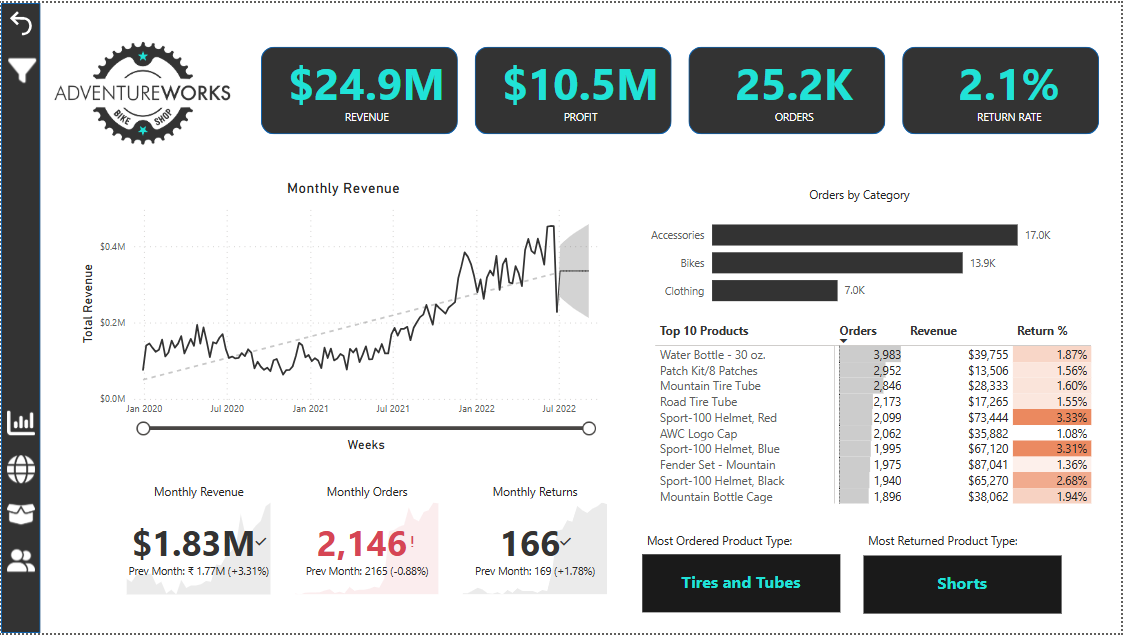

The dashboard page shown, as its layout file describes it:
{"tool":"powerbi","page":{"name":" Exec Dashboard ","canvas":[1280,720],"ordinal":0},"visuals":[{"type":"card","fields":{"Values":["Measure Table.Total Revenue"]},"box":[290,22.5,256.2,150],"z":0,"group":"g2"},{"type":"image","title":"Adv Logo","box":[33.8,32.5,256.2,140],"z":0},{"type":"group","id":"g1","title":"KPI's Backgrounds","box":[297.8,49.5,958.5,100.5],"z":0,"group":"g3"},{"type":"shape","box":[297.8,49.5,225,100],"z":0,"group":"g1"},{"type":"shape","title":"Left Nav Background","box":[0,0,45,720],"z":1000},{"type":"group","id":"g2","title":"KPI's Values","box":[290,22.5,990,150],"z":1000,"group":"g3"},{"type":"card","fields":{"Values":["Measure Table.Total profit"]},"box":[534.6,22.5,256.2,150],"z":1000,"group":"g2"},{"type":"shape","box":[542.3,49.5,225,100],"z":1000,"group":"g1"},{"type":"group","id":"g3","title":"KPI's","box":[290,22.5,990,150],"z":2000},{"type":"card","fields":{"Values":["Measure Table.Return Rate"]},"box":[1023.8,22.5,256.2,150],"z":2000,"group":"g2"},{"type":"shape","box":[786.8,49.5,225,100],"z":2000,"group":"g1"},{"type":"card","fields":{"Values":["Measure Table.Total Orders"]},"box":[779.2,22.5,256.2,150],"z":3000,"group":"g2"},{"type":"shape","box":[1031.3,50,225,100],"z":3000,"group":"g1"},{"type":"lineChart","title":"Monthly Revenue","fields":{"Y":["Measure Table.Total Revenue"],"Category":["Calendar Lookup.week s"]},"box":[86.2,201.2,611.2,316.2],"z":3000},{"type":"kpi","title":"Monthly Revenue","fields":{"Indicator":["Measure Table.Total Revenue"],"TrendLine":["Calendar Lookup.Start of Month"],"Goal":["Measure Table.Previous month Revenue"]},"box":[138.7,548.7,174.9,132.7],"z":4000},{"type":"kpi","title":"Monthly Orders","fields":{"TrendLine":["Calendar Lookup.Start of Month"],"Indicator":["Measure Table.Total Orders"],"Goal":["Measure Table.Previous Months orders"]},"box":[331.2,548.7,173.8,132.5],"z":5000},{"type":"kpi","title":"Monthly Returns","fields":{"TrendLine":["Calendar Lookup.Start of Month"],"Indicator":["Measure Table.Total Returns"],"Goal":["Measure Table.Previous Month Returns"]},"box":[522.5,548.7,175,132.5],"z":6000},{"type":"barChart","title":"Orders by Category","fields":{"Category":["Product Categories Lookup.CategoryName"],"Y":["Measure Table.Total Orders"]},"box":[732.5,210,496.2,150],"z":7000},{"type":"pivotTable","fields":{"Rows":["Product Lookup.ProductName"],"Values":["Measure Table.Total Orders","Measure Table.Total Revenue","Measure Table.Return Rate"]},"box":[742.5,360,513.8,223.8],"z":8000},{"type":"card","fields":{"Values":["Min(Product Subcategories Lookup.SubcategoryName)"]},"box":[732.5,630.6,226.2,66.2],"z":9000},{"type":"textbox","box":[732.5,599.4,180,31.2],"z":10000},{"type":"card","fields":{"Values":["Min(Product Subcategories Lookup.SubcategoryName)"]},"box":[986.3,631,226.2,66.2],"z":11000},{"type":"textbox","box":[986.2,600,192.5,31.2],"z":12000},{"type":"actionButton","box":[3.8,3.8,61.2,37.5],"z":13000},{"type":"actionButton","box":[2.8,459.9,45,40],"z":14000},{"type":"actionButton","box":[2.8,564.9,45,40],"z":15000},{"type":"actionButton","box":[2.8,512.4,45,40],"z":16000},{"type":"actionButton","box":[2.8,617.4,45,40],"z":17000},{"type":"actionButton","box":[3.8,57.5,47.5,40],"z":18000}]}

Visuals, with their boxes on the page's 1280x720 design canvas (x1, y1, x2, y2). These are canvas units, not pixel positions in the 1123x635 screenshot, which may show the page scaled, cropped or inside an application window:
card - Measure Table.Total Revenue: bbox(290, 22, 546, 172)
"Adv Logo" image: bbox(34, 32, 290, 172)
"KPI's Backgrounds" group: bbox(298, 50, 1256, 150)
shape: bbox(298, 50, 523, 150)
"Left Nav Background" shape: bbox(0, 0, 45, 720)
"KPI's Values" group: bbox(290, 22, 1280, 172)
card - Measure Table.Total profit: bbox(535, 22, 791, 172)
shape: bbox(542, 50, 767, 150)
"KPI's" group: bbox(290, 22, 1280, 172)
card - Measure Table.Return Rate: bbox(1024, 22, 1280, 172)
shape: bbox(787, 50, 1012, 150)
card - Measure Table.Total Orders: bbox(779, 22, 1035, 172)
shape: bbox(1031, 50, 1256, 150)
"Monthly Revenue" lineChart: bbox(86, 201, 697, 517)
"Monthly Revenue" kpi: bbox(139, 549, 314, 681)
"Monthly Orders" kpi: bbox(331, 549, 505, 681)
"Monthly Returns" kpi: bbox(522, 549, 698, 681)
"Orders by Category" barChart: bbox(732, 210, 1229, 360)
pivotTable - Product Lookup.ProductName x Measure Table.Total Orders: bbox(742, 360, 1256, 584)
card - Min(Product Subcategories Lookup.SubcategoryName): bbox(732, 631, 959, 697)
textbox: bbox(732, 599, 912, 631)
card - Min(Product Subcategories Lookup.SubcategoryName): bbox(986, 631, 1212, 697)
textbox: bbox(986, 600, 1179, 631)
actionButton: bbox(4, 4, 65, 41)
actionButton: bbox(3, 460, 48, 500)
actionButton: bbox(3, 565, 48, 605)
actionButton: bbox(3, 512, 48, 552)
actionButton: bbox(3, 617, 48, 657)
actionButton: bbox(4, 58, 51, 98)
